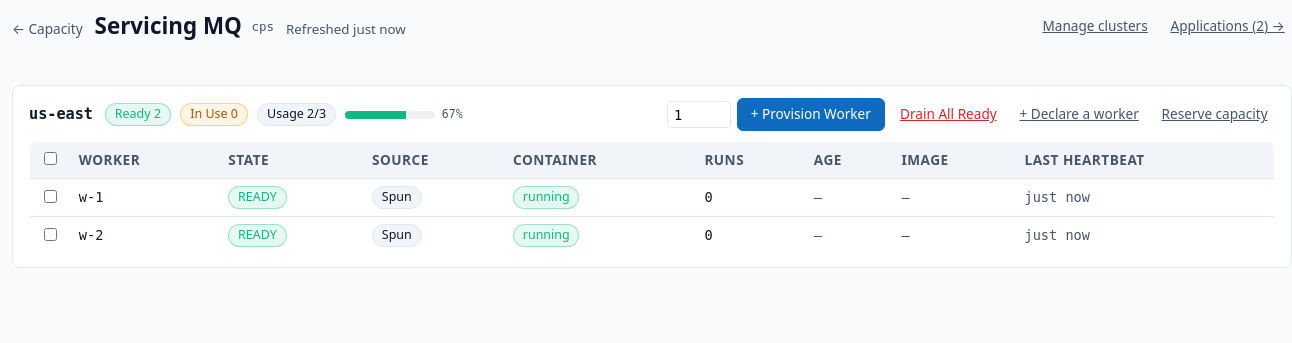
Test: CapacityDetailPage — per application group › selecting workers reveals bulk toolbar with Restart + Drain Selected
The width and height of the screenshot is (1292, 343).
Step 1. Click the checkbox named "Select all workers in us-east" → (50, 159), box top-left (44, 152), bottom-right (57, 165)
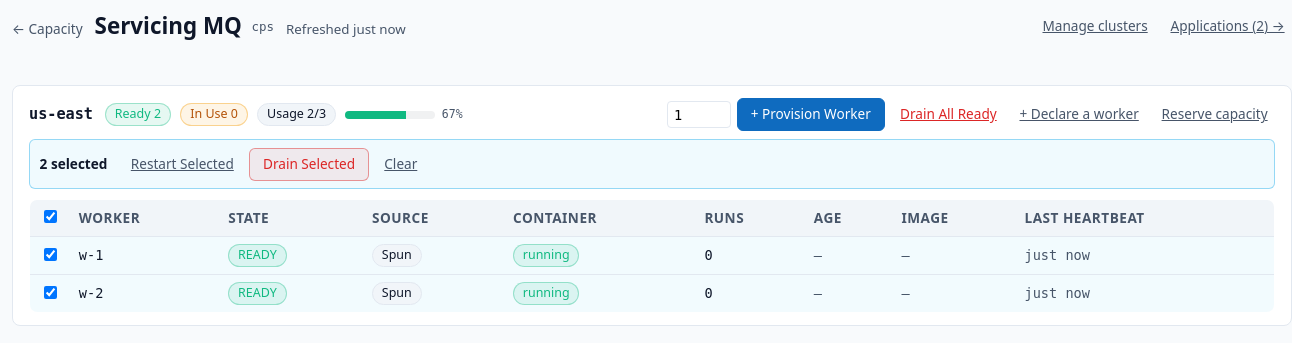
expect the text "2 selected" is shown: met, box top-left (40, 154), bottom-right (107, 174)
expect the button "Restart Selected" is shown: met, box top-left (123, 150), bottom-right (241, 179)
expect the button "Drain Selected" is shown: met, box top-left (249, 148), bottom-right (369, 181)
